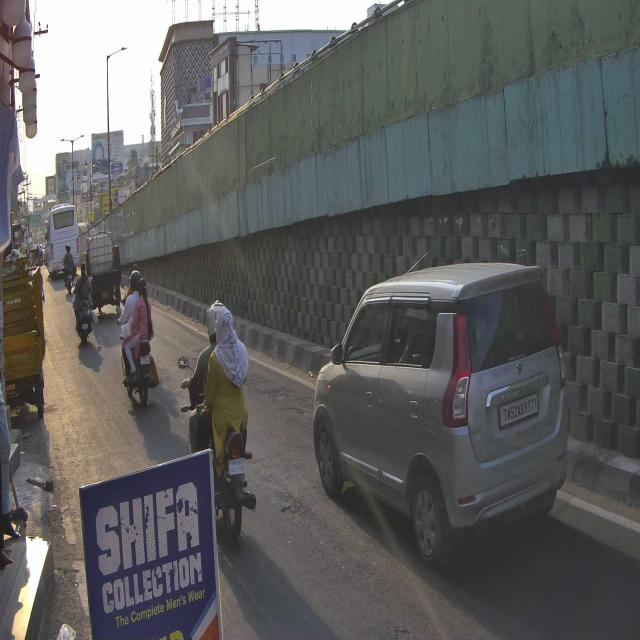double_rider: (178, 298, 256, 546), (116, 269, 160, 408)
